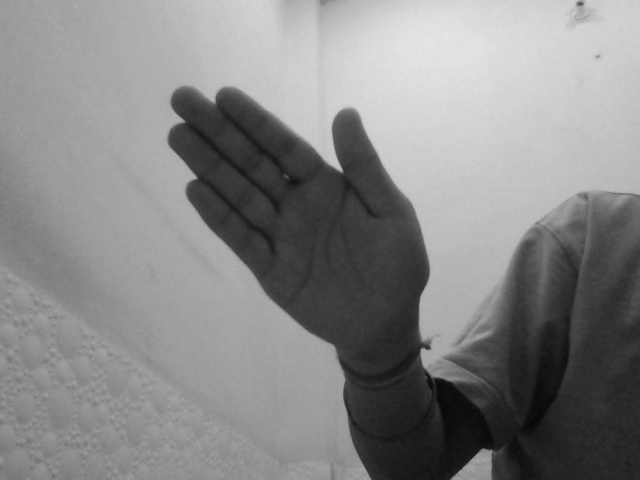Hello: (163, 83, 444, 350)
